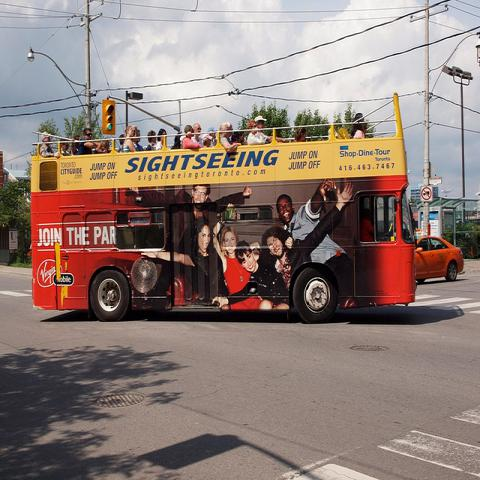bus: (30, 93, 418, 327)
car: (415, 223, 462, 284)
